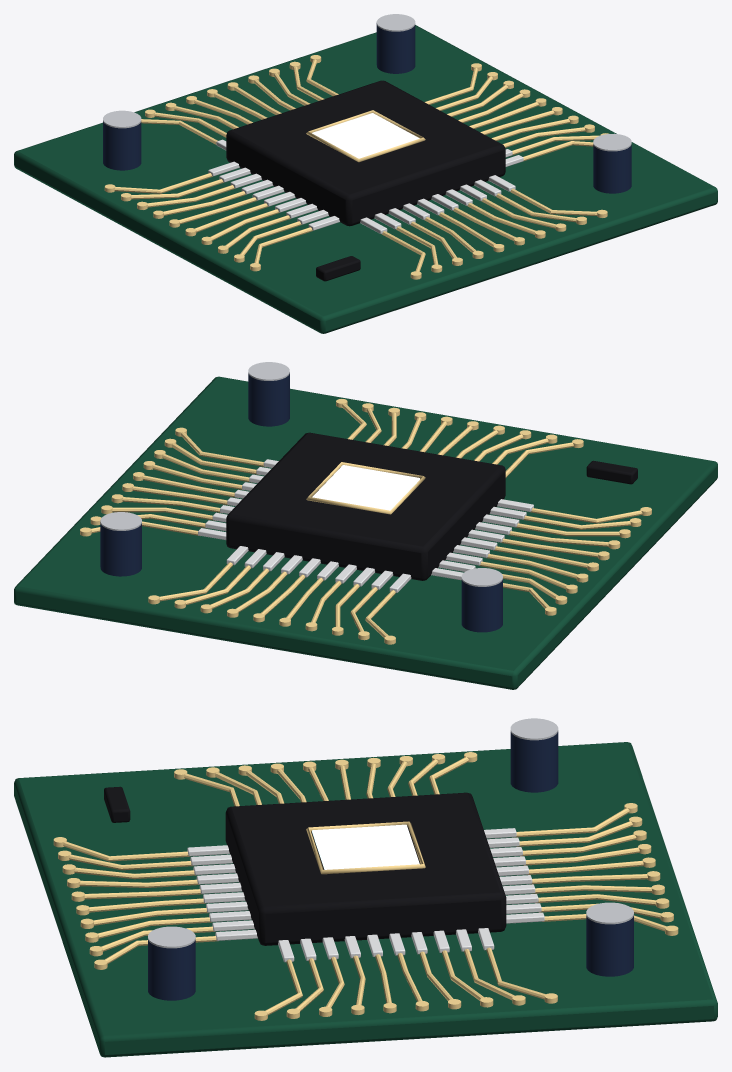
File: chip.glb
3 renders of one model, top to bottom at view 1: azimuth 30°, elevation 25°; view 2: azimuth 150°, elevation 25°; view 3: azimuth 270°, elevation 25°, orthographic. The views are drawn at different scales.
Visible parts, largest first — view 1: pcb, chip, die, cap, cap.001, cap.002, diering, res, capt.001, capt, capt.002; view 2: pcb, chip, die, cap, cap.001, cap.002, diering, res, capt.001, capt, capt.002, trace.039 (+7 smaller); view 3: pcb, chip, die, cap.001, cap, cap.002, diering, capt.001, capt, capt.002, res, trace (+15 smaller).
Part boxes in pixels (x1,y1,x2,y2): pcb: [14, 25, 717, 333]; chip: [226, 80, 505, 226]; die: [312, 113, 419, 158]; cap: [376, 23, 415, 73]; cap.001: [103, 122, 141, 170]; cap.002: [593, 145, 631, 193]; diering: [306, 110, 425, 162]; res: [316, 256, 360, 281]; capt.001: [103, 110, 141, 128]; capt: [376, 14, 415, 31]; capt.002: [593, 133, 631, 151]; pcb: [14, 376, 717, 689]; chip: [226, 432, 505, 580]; die: [312, 465, 419, 510]; cap: [100, 522, 141, 576]; cap.001: [461, 580, 502, 632]; cap.002: [248, 373, 289, 426]; diering: [306, 462, 425, 514]; res: [586, 460, 637, 484]; capt.001: [461, 568, 502, 586]; capt: [100, 512, 141, 530]; capt.002: [248, 362, 289, 380]; trace.039: [530, 508, 642, 523]; pcb: [14, 742, 717, 1057]; chip: [225, 792, 506, 945]; die: [312, 824, 419, 869]; cap.001: [510, 732, 558, 792]; cap: [586, 916, 633, 976]; cap.002: [148, 940, 195, 1000]; diering: [306, 821, 425, 874]; capt.001: [510, 718, 558, 740]; capt: [586, 902, 633, 924]; capt.002: [148, 926, 195, 948]; res: [104, 786, 130, 822]; trace: [63, 841, 190, 861].
Size of the model in its own units: 1.47 by 0.174 by 1.47.
